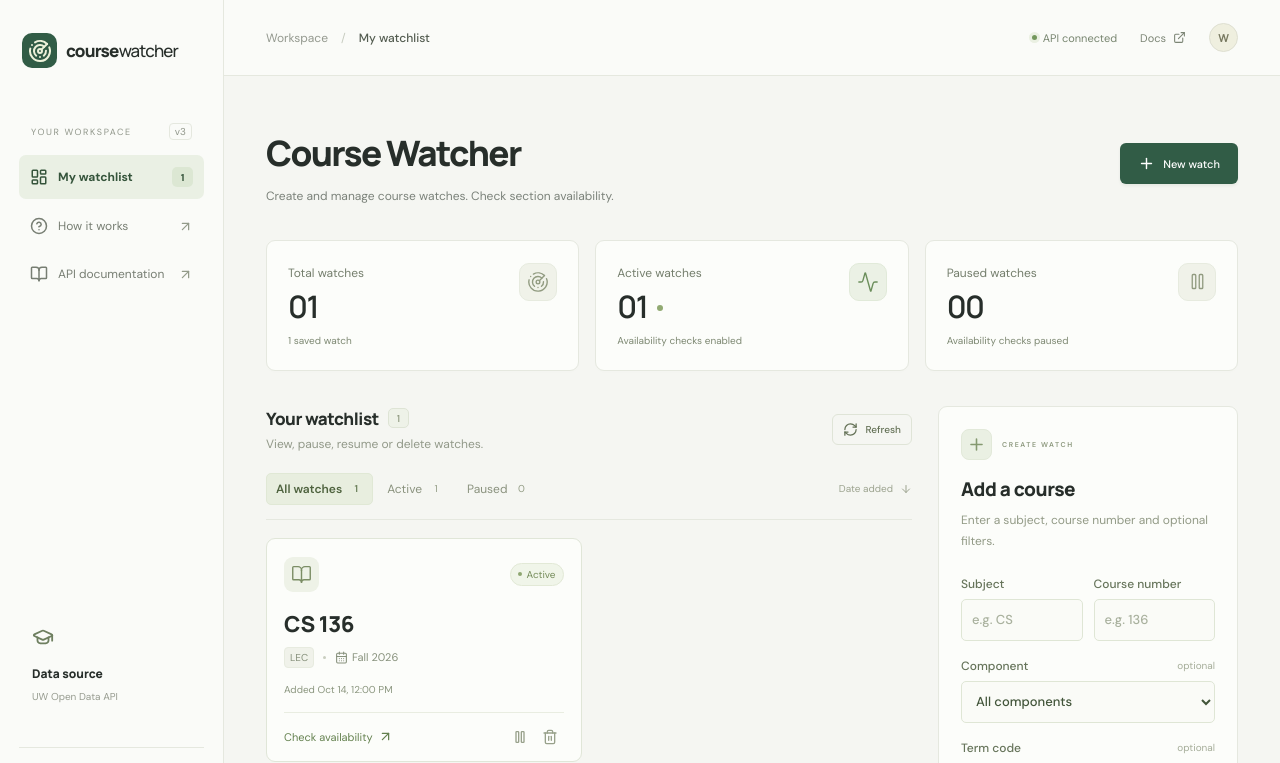
watch dashboard › shows real section results on demand
Click the button with aria-label "Check availability for CS 136" at (338, 737), box x1=284 y1=723 x2=393 y2=751
(page scrolled)
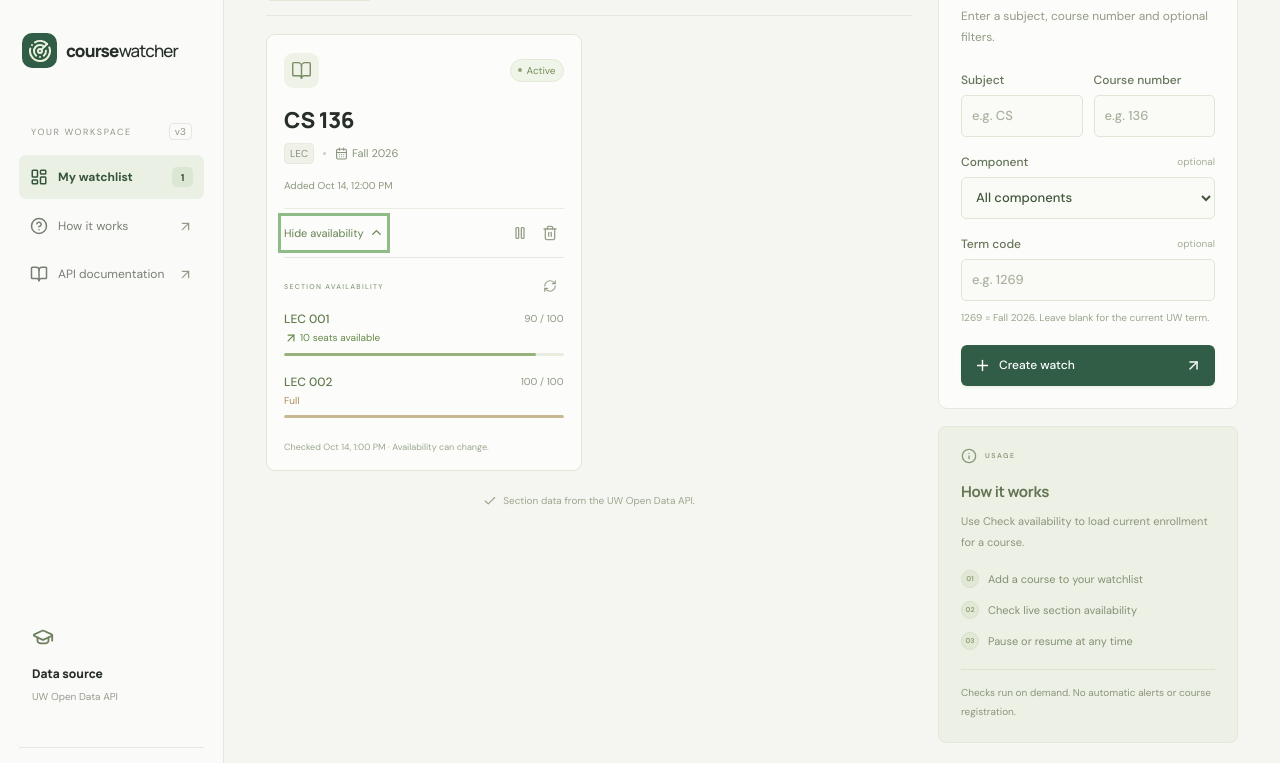
Expected: the text "LEC 001" is shown, x1=284 y1=311 x2=330 y2=327
Expected: the text "90 / 100" is shown, x1=524 y1=312 x2=564 y2=325
Expected: the text "10 seats available" is shown, x1=284 y1=331 x2=380 y2=345
